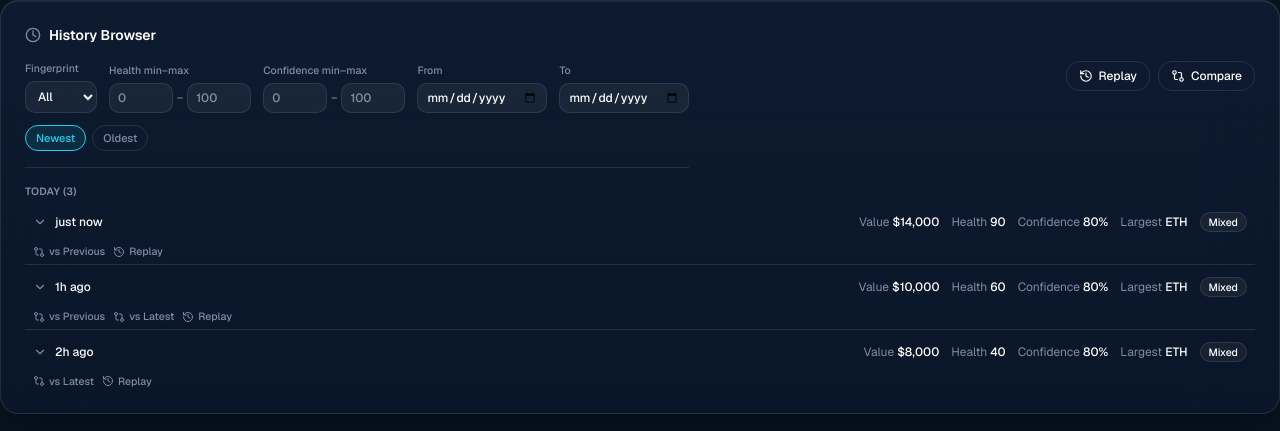
Test: HistoryBrowserSection — V4-HISTORY-003 Snapshot Compare › clicking 'Compare' enters selection mode with an honest 'select 2 more' prompt
Click the button "Compare" at coordinates (1206, 76), box x1=1158 y1=61 x2=1255 y2=91
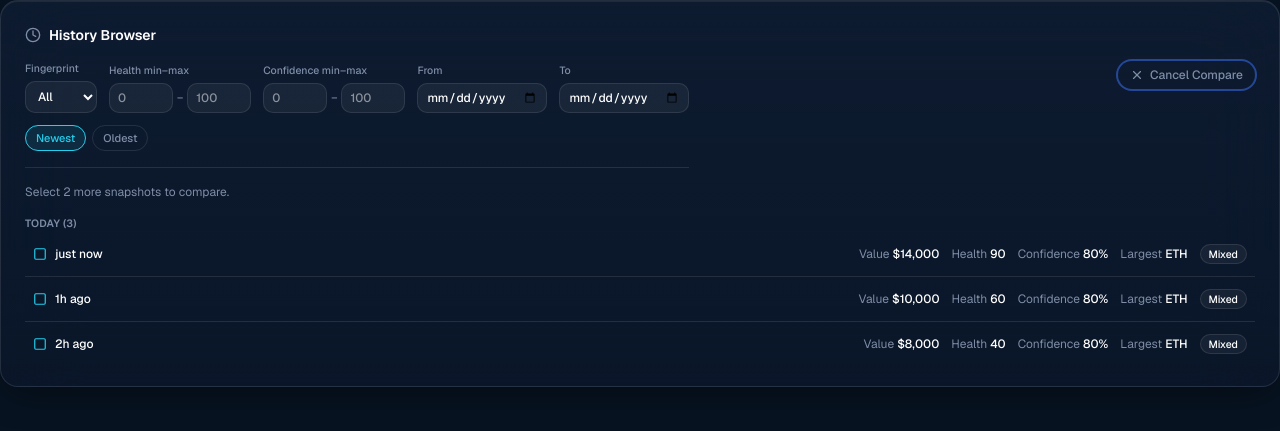
Expected: the text "Select 2 more snapshots to compare." is shown, x1=25 y1=184 x2=229 y2=200
